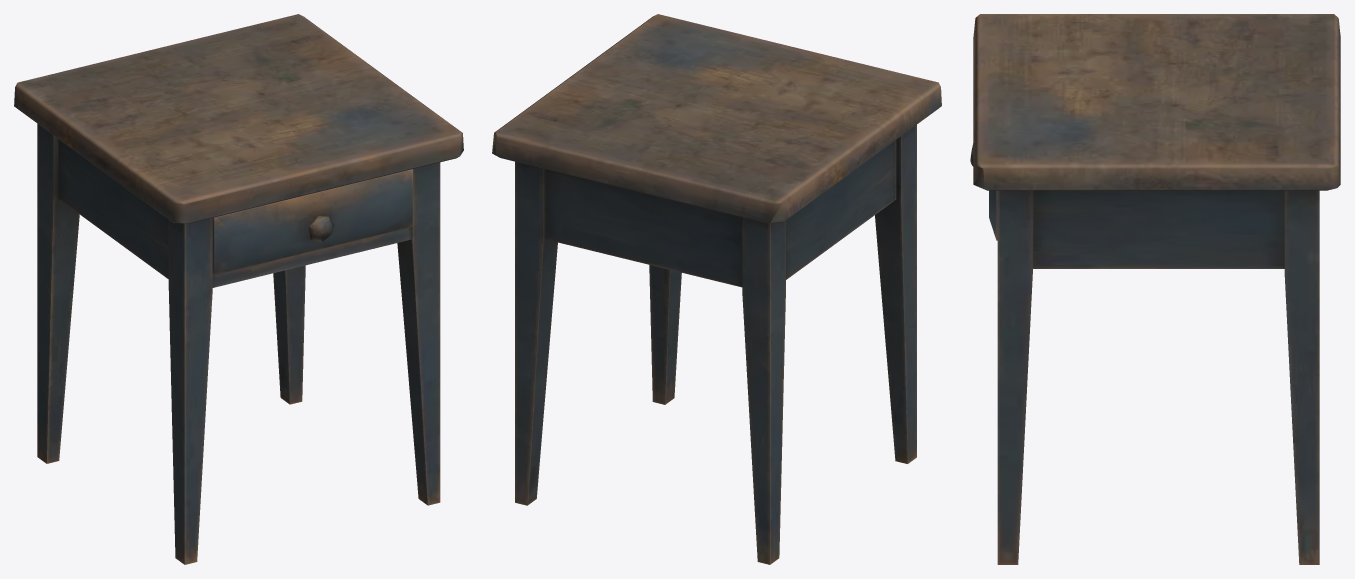
The model's file is painted-wooden-nightstand.glb.
3 renders of one model, left to right at view 1: azimuth 30°, elevation 25°; view 2: azimuth 150°, elevation 25°; view 3: azimuth 270°, elevation 25°, orthographic. The views are drawn at different scales.
Parts seen in each view (by area): view 1: painted_wooden_nightstand; view 2: painted_wooden_nightstand; view 3: painted_wooden_nightstand.
Part boxes in pixels (x1,y1,x2,y2): painted_wooden_nightstand: [14, 14, 463, 564]; painted_wooden_nightstand: [492, 14, 941, 564]; painted_wooden_nightstand: [970, 14, 1340, 564].
Size of the model in its own units: 0.5045 by 0.6155 by 0.5074.
Materials: 1 (1 with a texture image).
